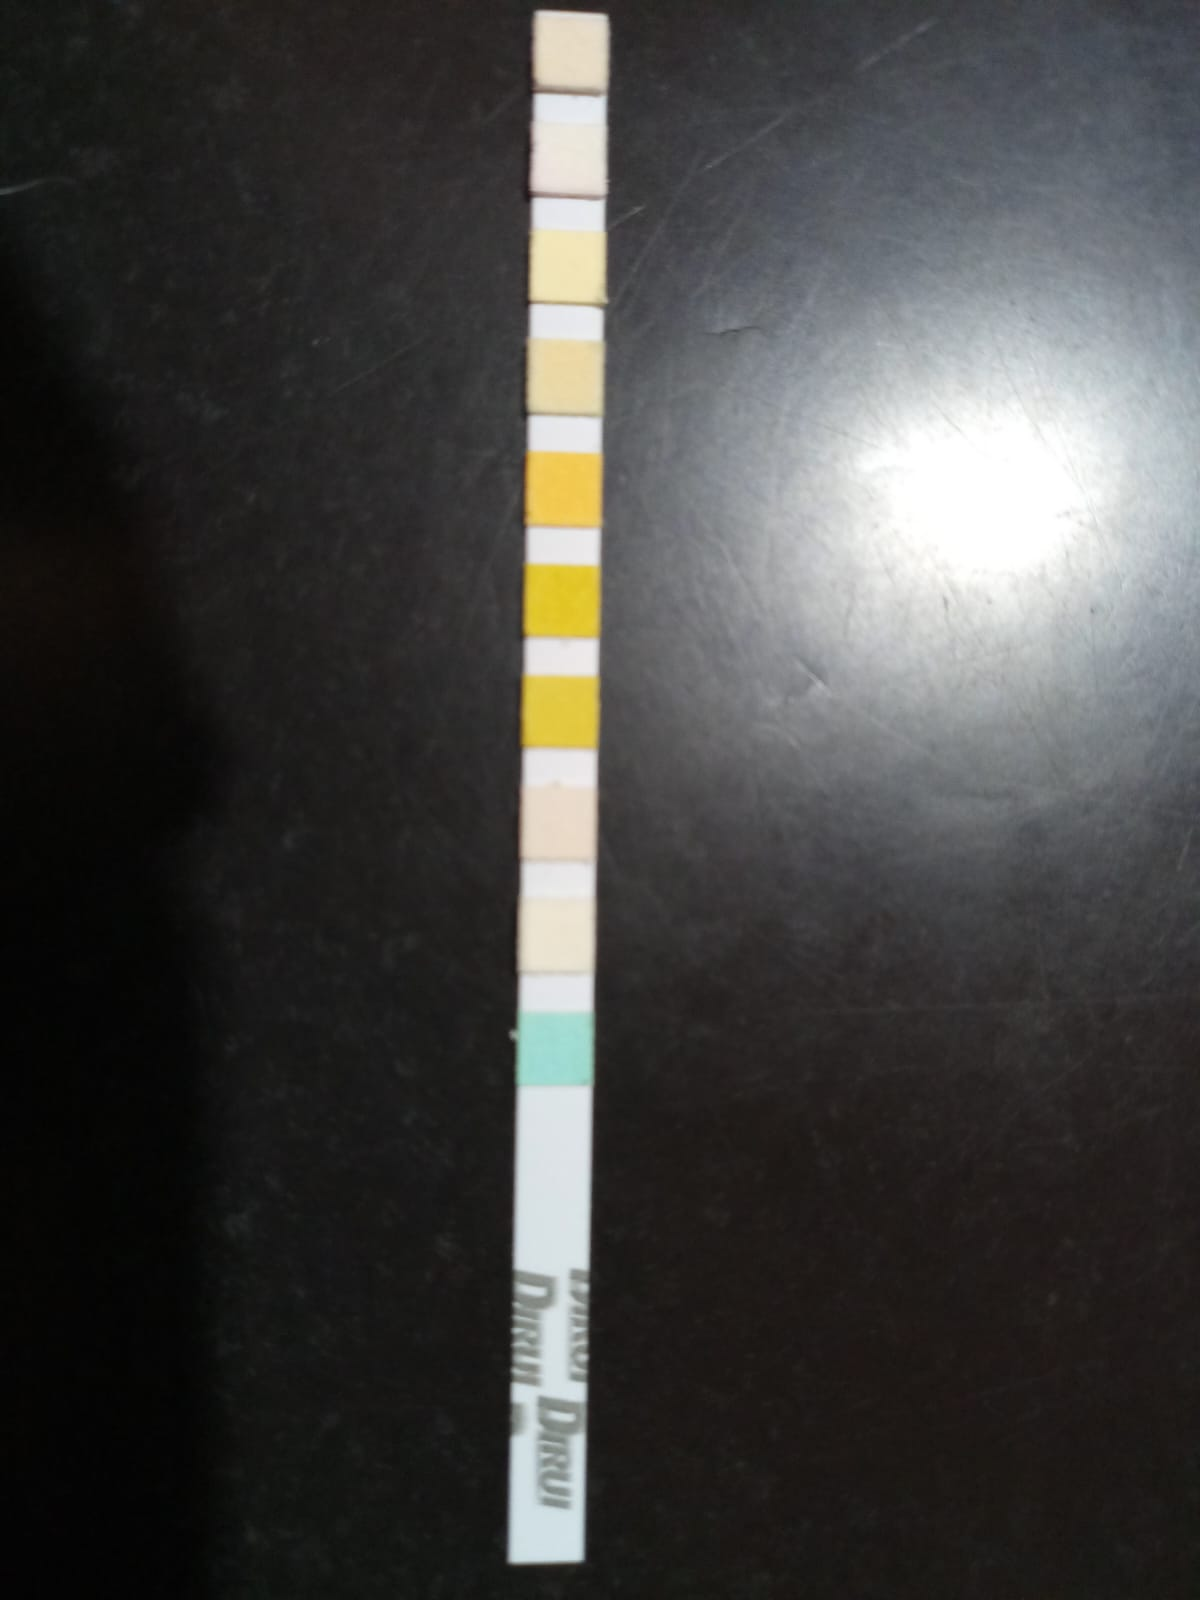color 1: (539, 16, 603, 83)
color 10: (523, 1020, 586, 1082)
color 2: (534, 126, 604, 195)
color 3: (534, 236, 600, 300)
color 4: (531, 343, 599, 409)
color 5: (531, 457, 597, 524)
color 6: (528, 569, 595, 635)
color 7: (527, 682, 594, 745)
color 8: (524, 792, 587, 852)
color 9: (523, 900, 591, 974)
